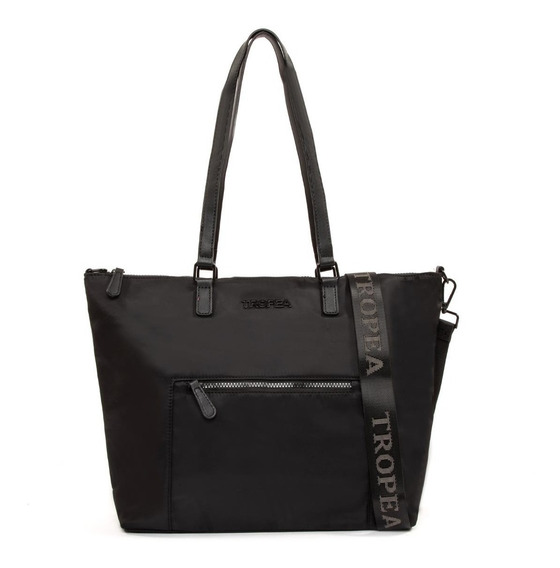cartera: (83, 27, 459, 537)
